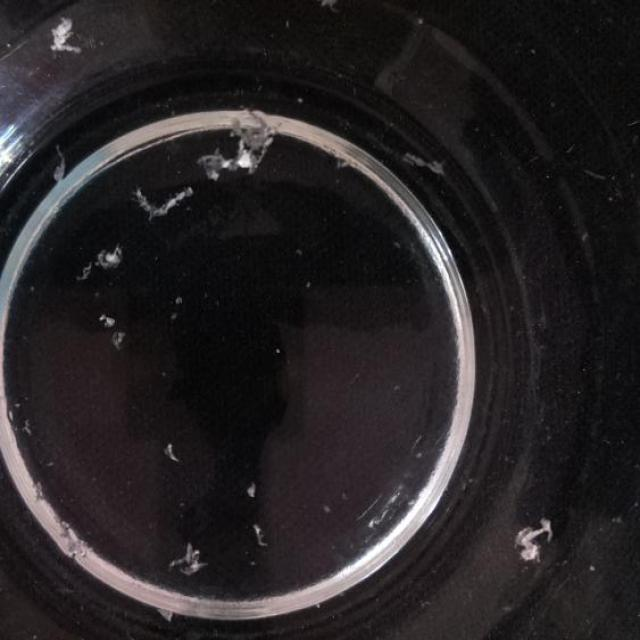fiber: (199, 106, 275, 185), (132, 182, 201, 219), (75, 237, 124, 287), (518, 518, 554, 570), (60, 512, 93, 568), (398, 148, 452, 178), (165, 545, 208, 579), (47, 16, 80, 58), (94, 312, 128, 352), (51, 142, 70, 197), (328, 144, 359, 176), (250, 517, 272, 555), (27, 474, 50, 506), (240, 480, 266, 503), (157, 441, 183, 463), (314, 3, 340, 19), (172, 293, 191, 305)
